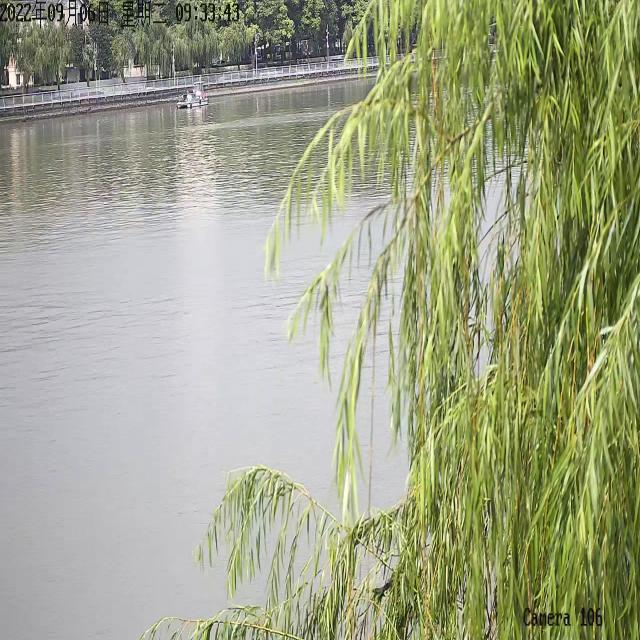ship: (176, 80, 208, 107)
